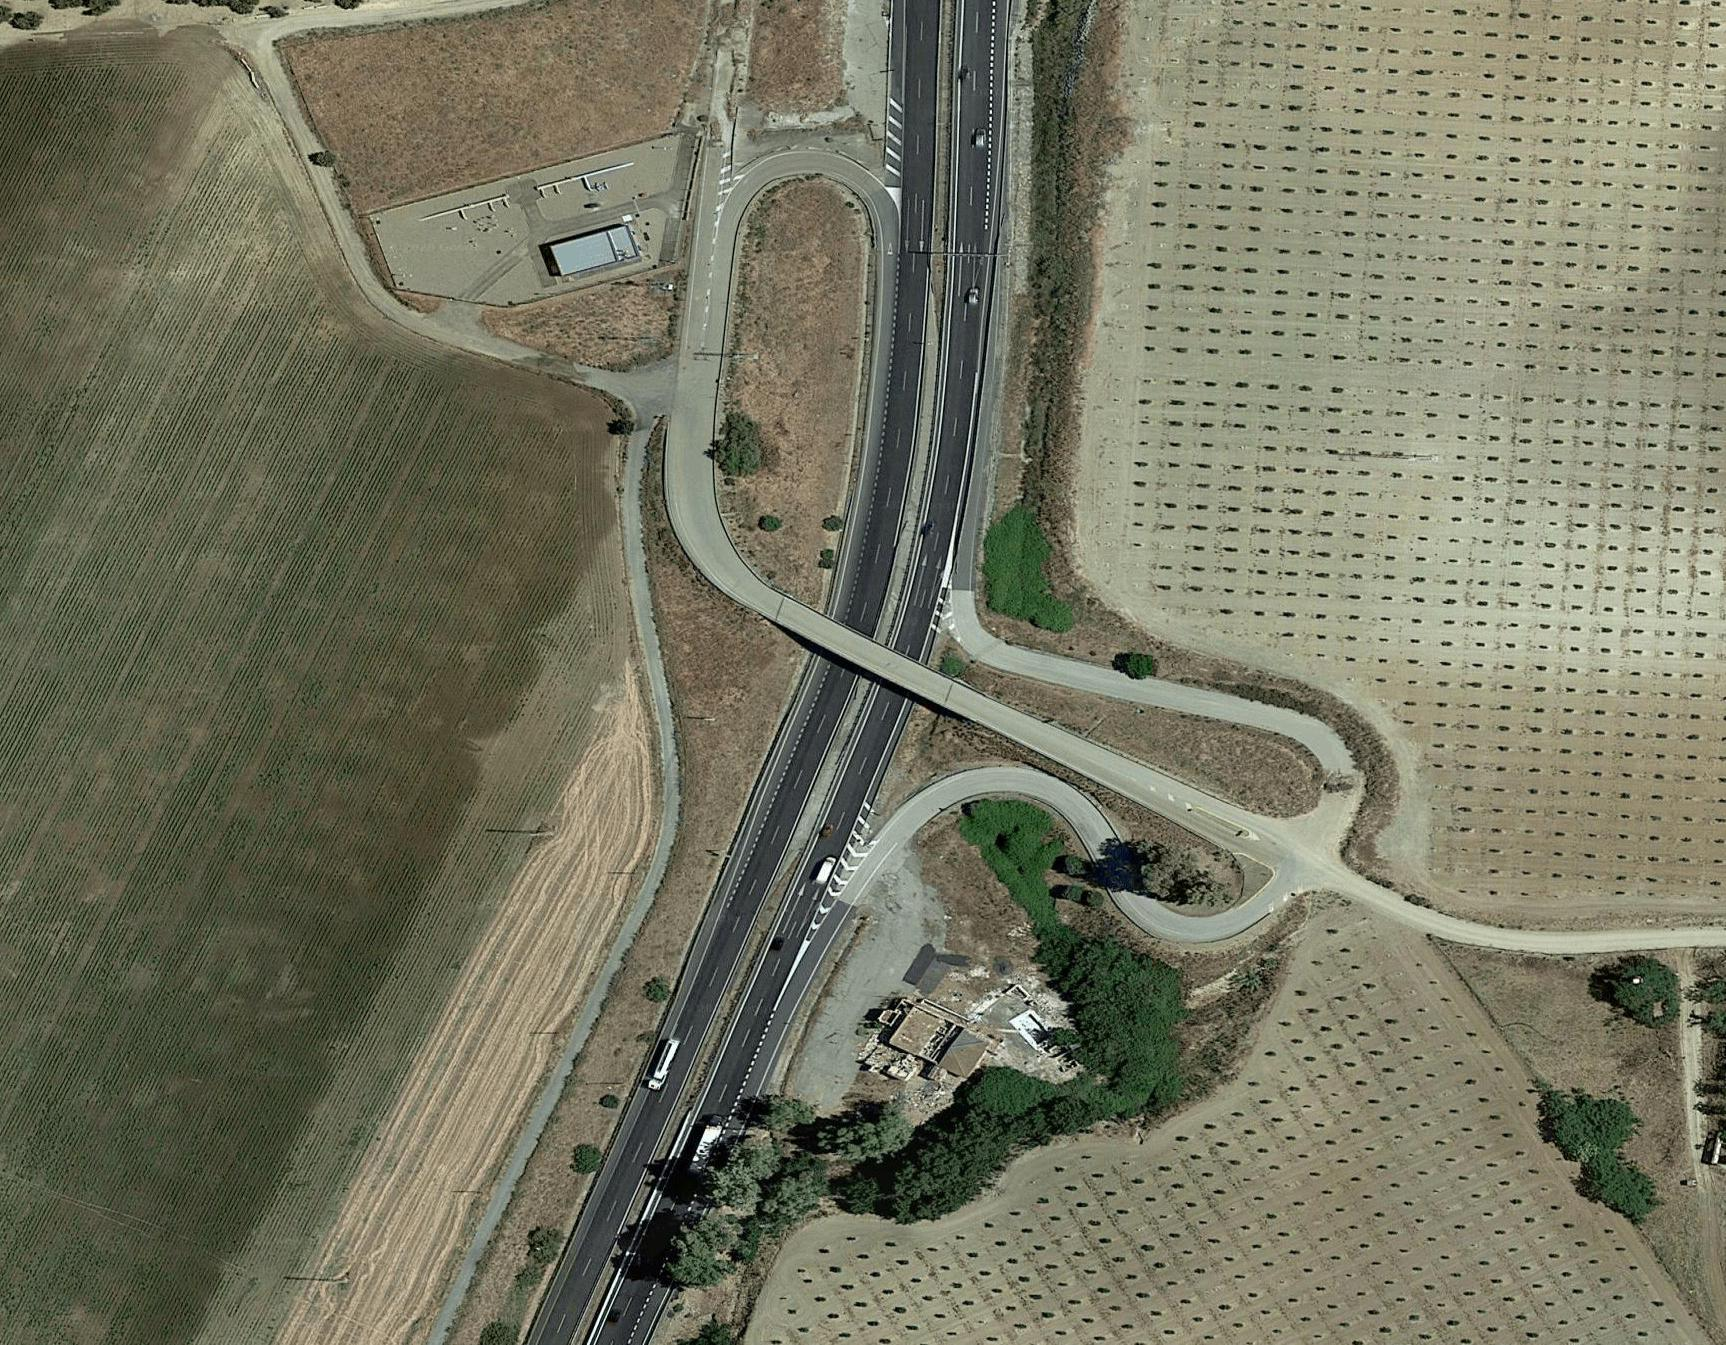bridge: (783, 594, 958, 710)
large-vehicle: (642, 1035, 685, 1090), (814, 856, 838, 887)
small-vehicle: (817, 822, 831, 838)
